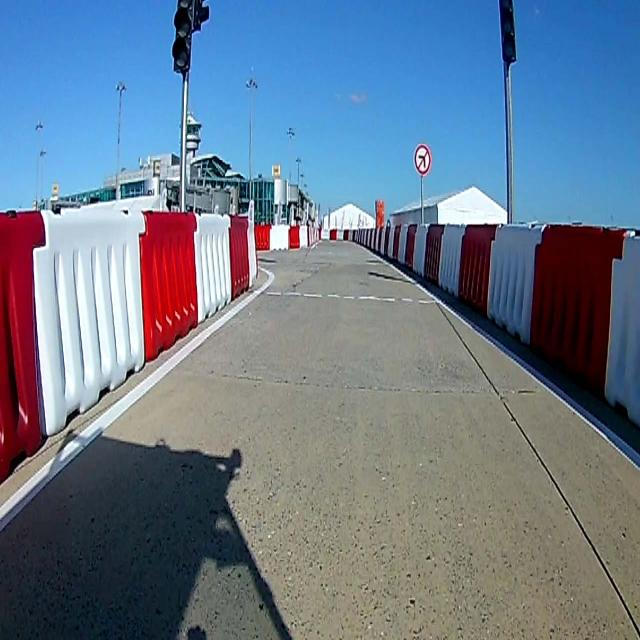soladonulmez: (413, 141, 433, 178)
